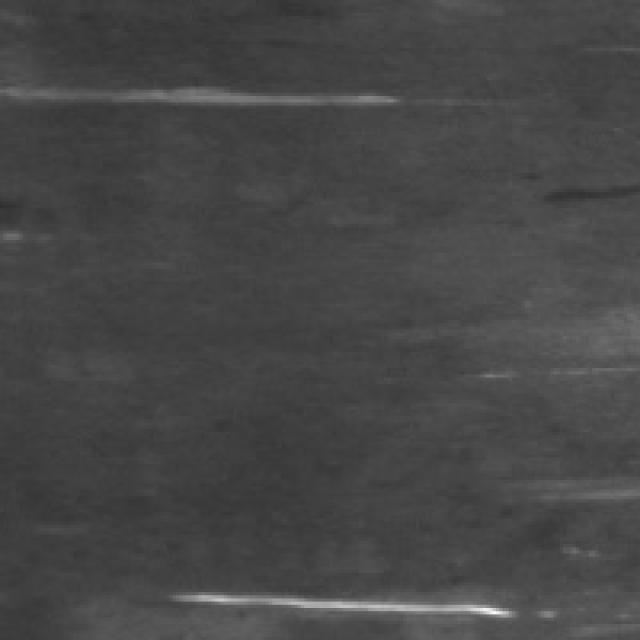scratches: (176, 560, 528, 621), (13, 64, 403, 112)
